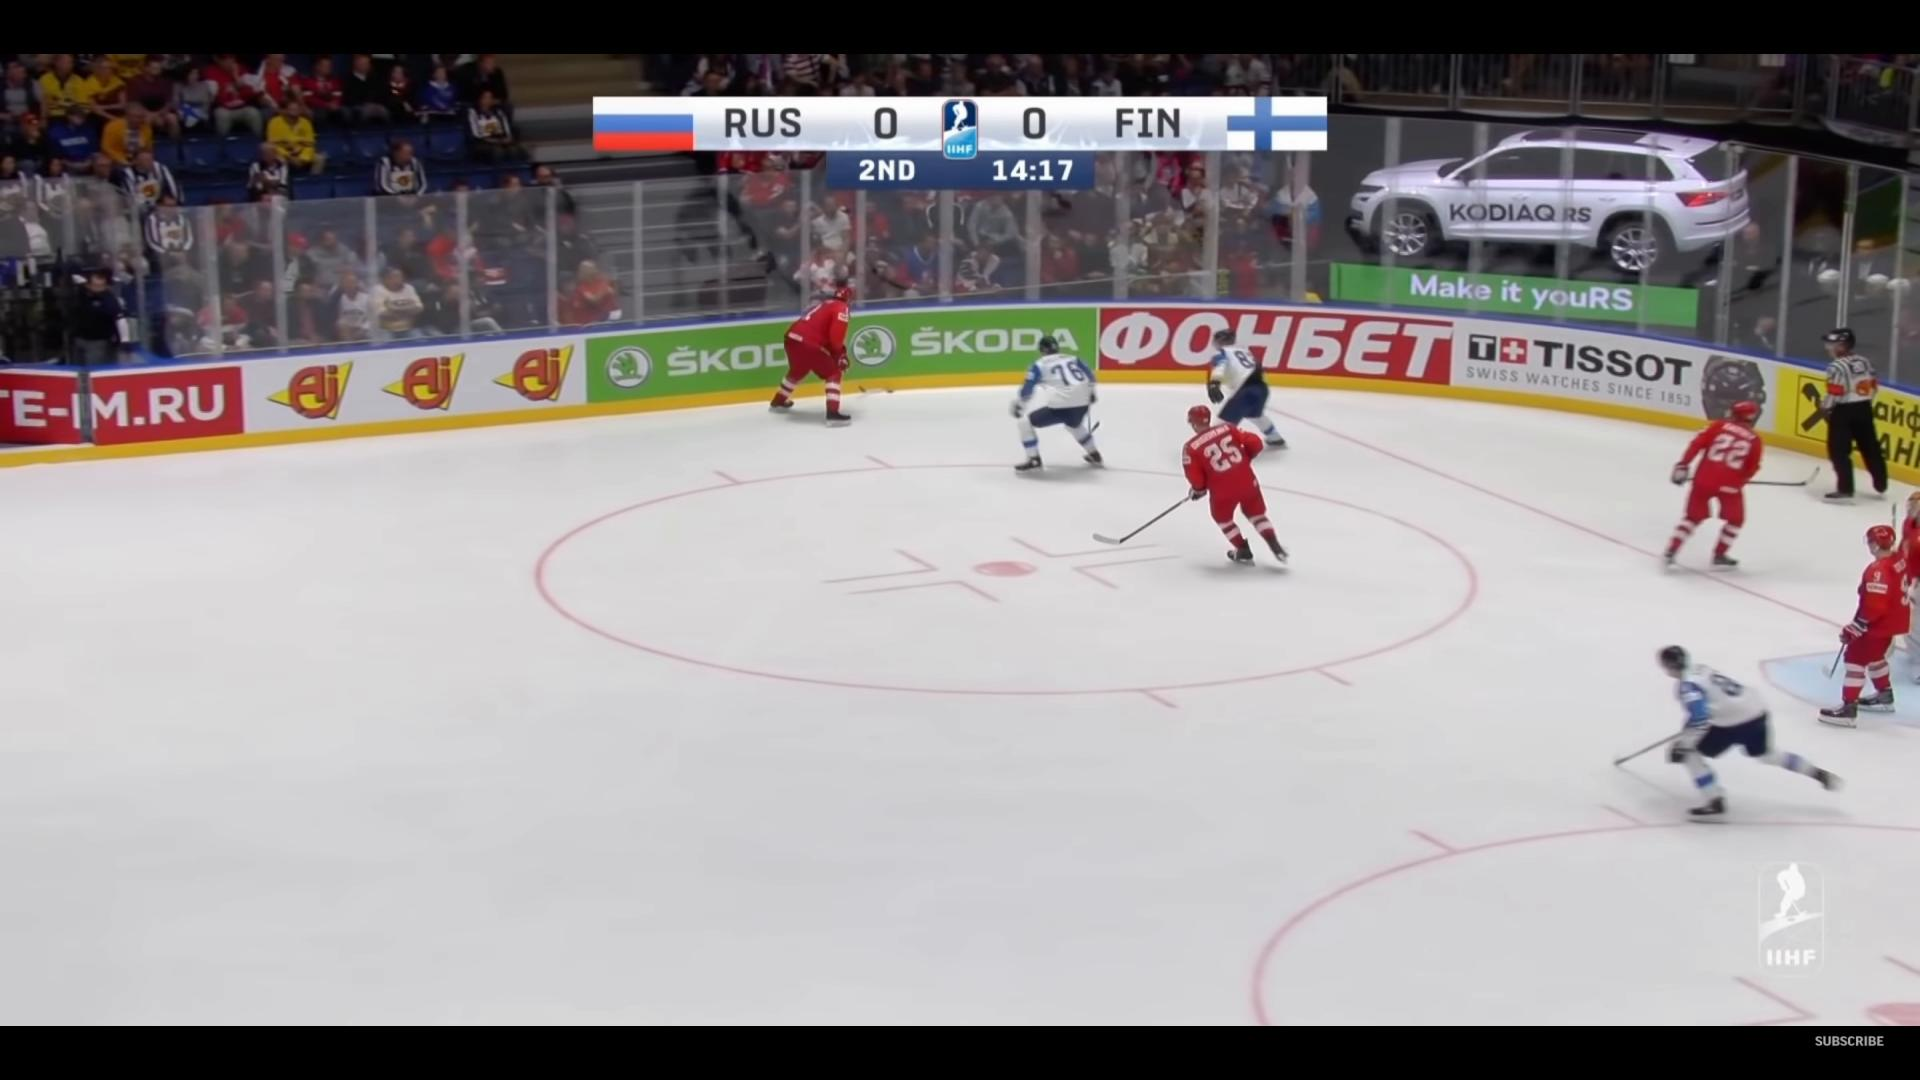puck: (885, 389, 894, 393)
